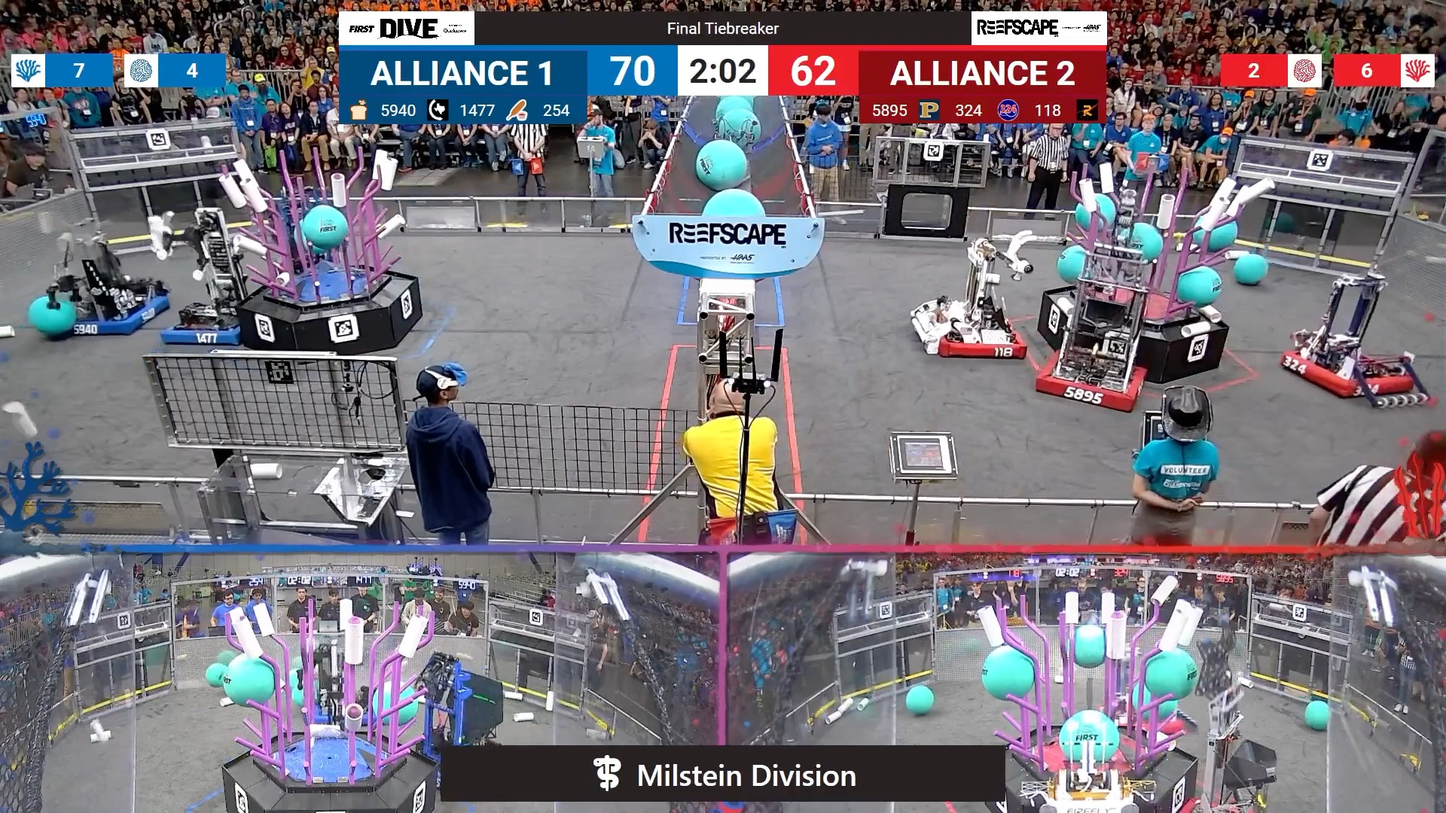bumpers: (1271, 340, 1417, 406), (40, 282, 181, 342), (1029, 347, 1157, 413), (932, 316, 1038, 369), (158, 301, 250, 351)
